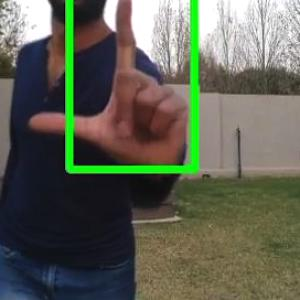land_hand: (25, 0, 190, 172)
